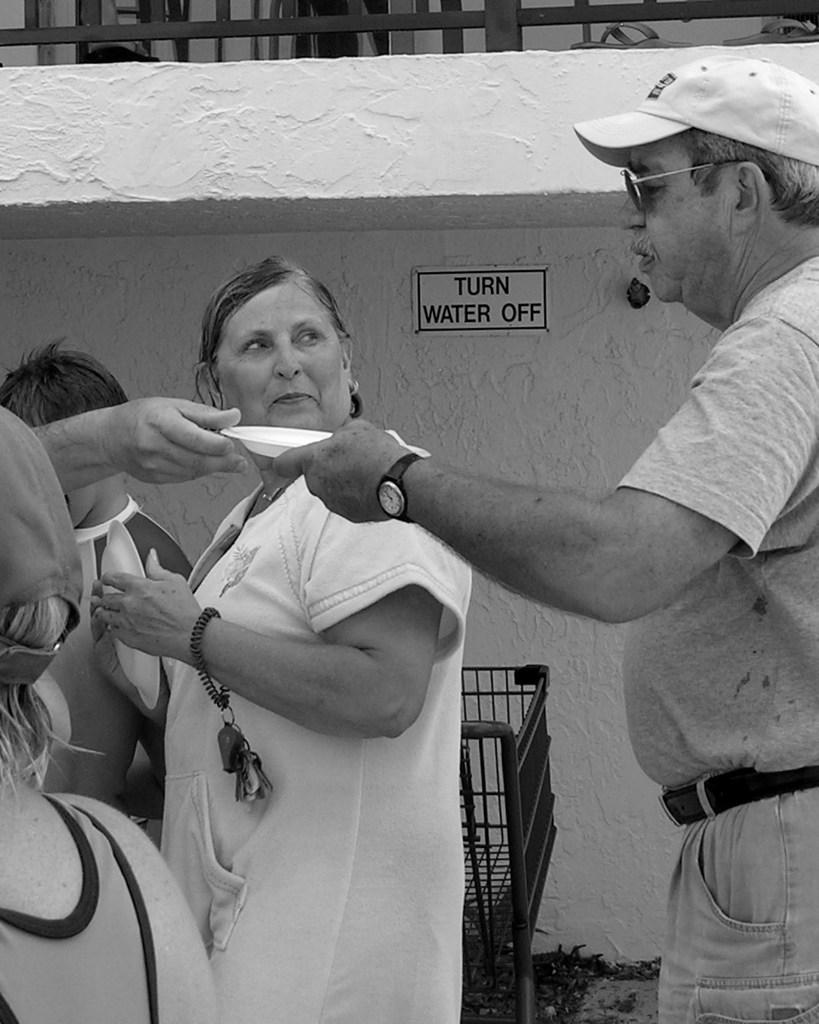Hat: (576, 46, 818, 174)
